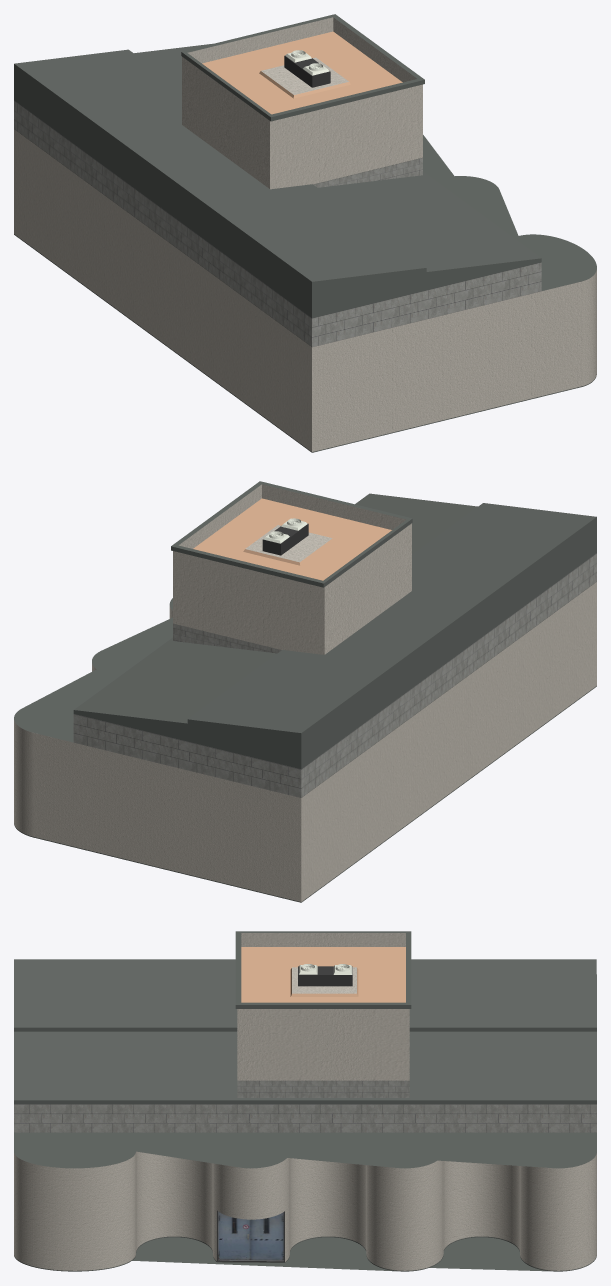
Rendered from Disco 21.fbx.
The picture shows the model from 3 angles, top to bottom: view 1: azimuth 30°, elevation 25°; view 2: azimuth 150°, elevation 25°; view 3: azimuth 270°, elevation 25°; orthographic projection. The views are drawn at different scales.
Parts seen in each view (by area): view 1: Cylinder.004, Cylinder.001, Home, Cylinder.008, Home.001, Plane.015, Cylinder.007; view 2: Cylinder.004, Cylinder.001, Home, Cylinder.008, Home.001, Plane.015, Cylinder.007; view 3: Cylinder.001, Cylinder.004, Home, Cylinder.008, Cylinder.007, Home.001, Cylinder.005, Cylinder.006, Plane.015.
Boxes of the visible parts, x1,y1,x2,y2 form: Cylinder.004: (14,129,596,451); Cylinder.001: (14,43,596,318); Home: (181,14,424,189); Cylinder.008: (14,100,541,347); Home.001: (313,157,422,187); Plane.015: (284,50,330,87); Cylinder.007: (14,234,596,452); Cylinder.004: (14,582,596,901); Cylinder.001: (14,493,596,769); Home: (171,481,412,654); Cylinder.008: (73,553,596,797); Home.001: (173,623,281,653); Plane.015: (262,518,308,555); Cylinder.007: (14,686,596,902); Cylinder.001: (14,959,596,1168); Cylinder.004: (14,1151,596,1270); Home: (235,931,411,1080); Cylinder.008: (14,1104,596,1132); Cylinder.007: (14,1236,596,1271); Home.001: (237,1080,409,1097); Cylinder.005: (251,1212,283,1261); Cylinder.006: (218,1211,250,1260); Plane.015: (298,964,352,986).
Size of the model in its own units: 2781 by 2087 by 4722.
